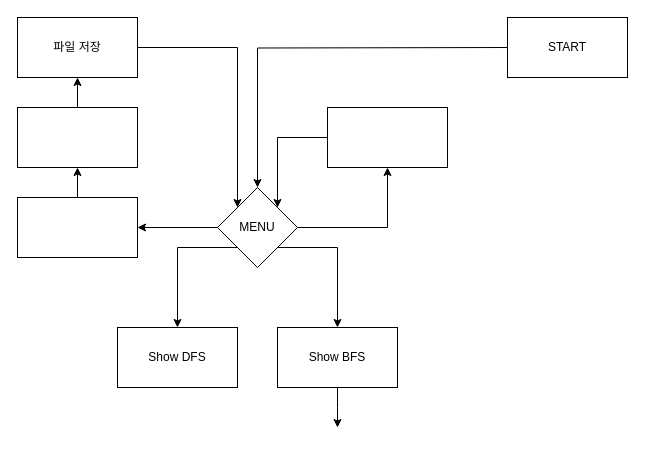
This 645x453 diagram has some shape labels left out. The box of each missing label's shape, as (x1, y1, x2, y2) in pixels:
g_maze(): (16, 106, 138, 168)
Generate maze: (16, 196, 138, 258)
Open: (326, 106, 448, 168)
